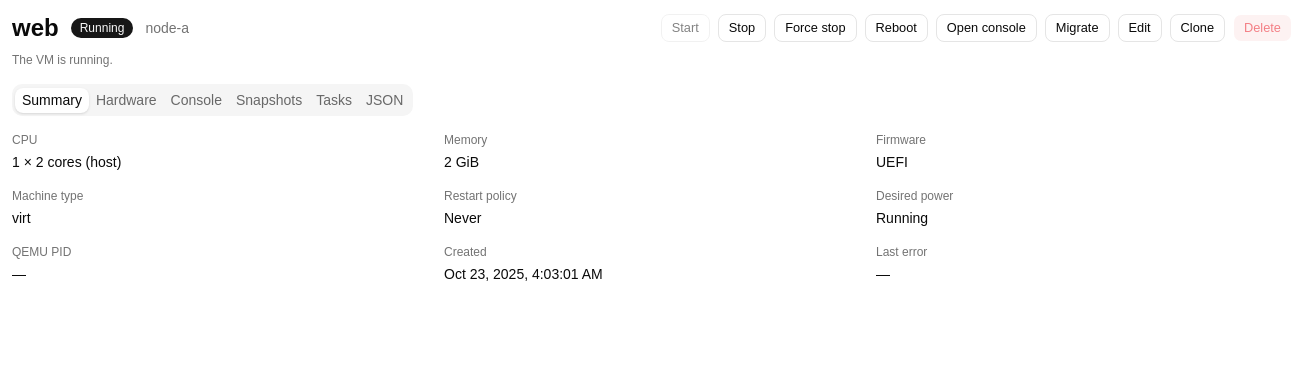
Test case: shows a VM, its hardware and its tasks
Expected: the heading "web" is shown, [12, 12, 59, 44]
Expected: the text "node-a" is shown, [145, 18, 189, 38]
Click the tab "Hardware": x=126, y=100 [89, 88, 164, 112]
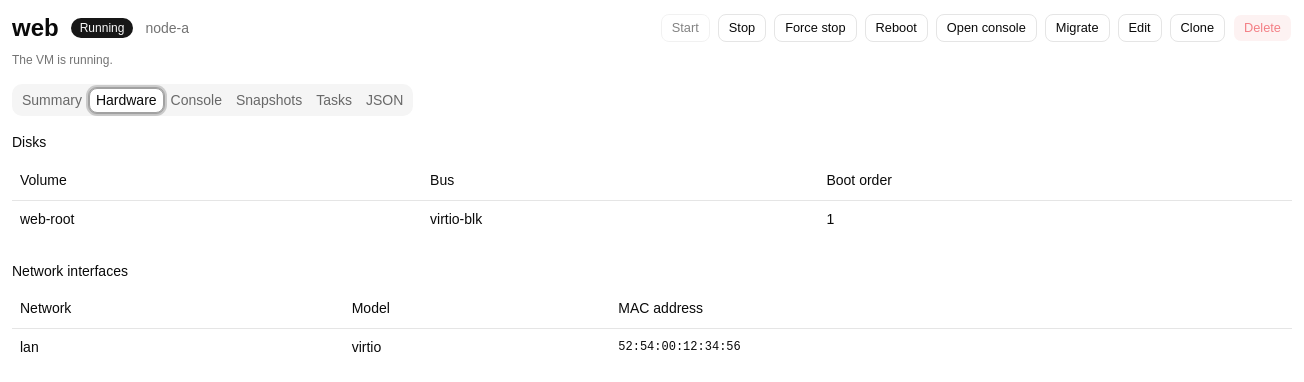
Expected: the text "web-root" is shown, [12, 200, 422, 236]
Expected: the text "52:54:00:12:34:56" is shown, [610, 328, 1292, 365]
Click the tab "Tasks": x=334, y=100 [309, 88, 359, 112]
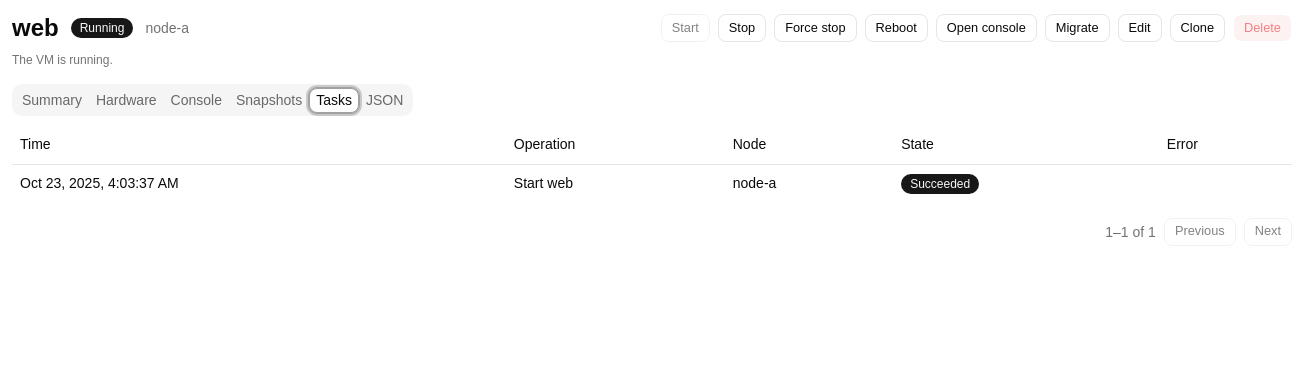
Expected: the link "Start web" is shown, [514, 175, 573, 191]
